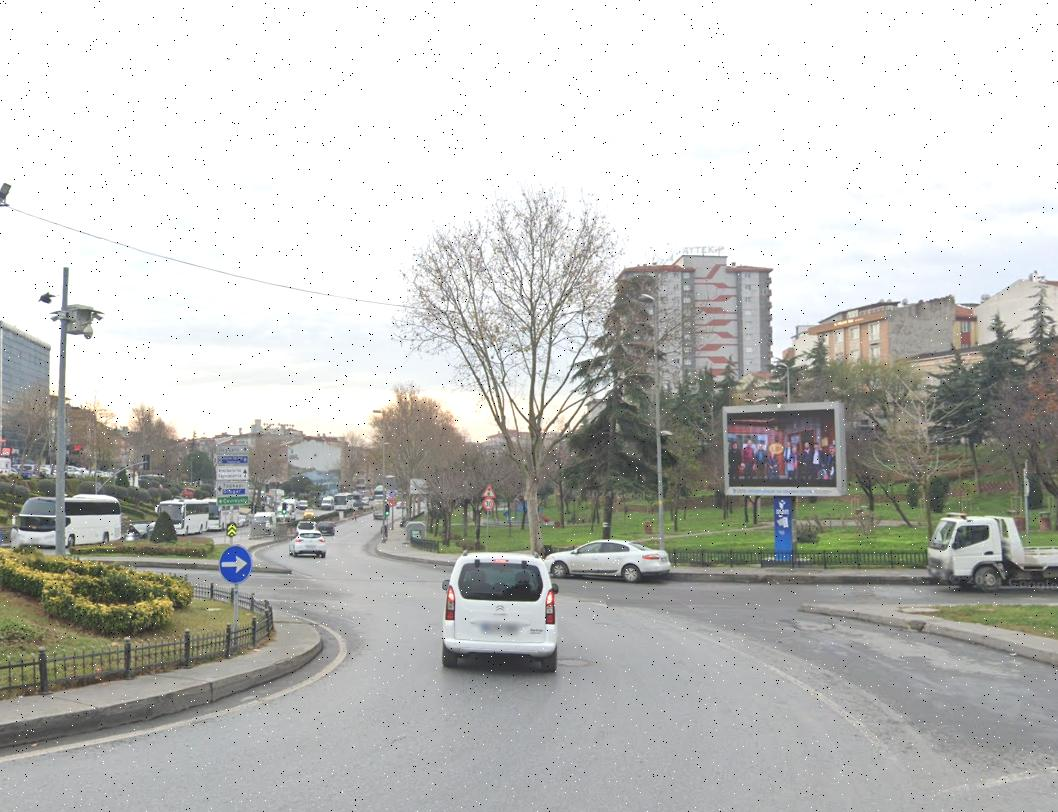turnright: (219, 545, 253, 584)
